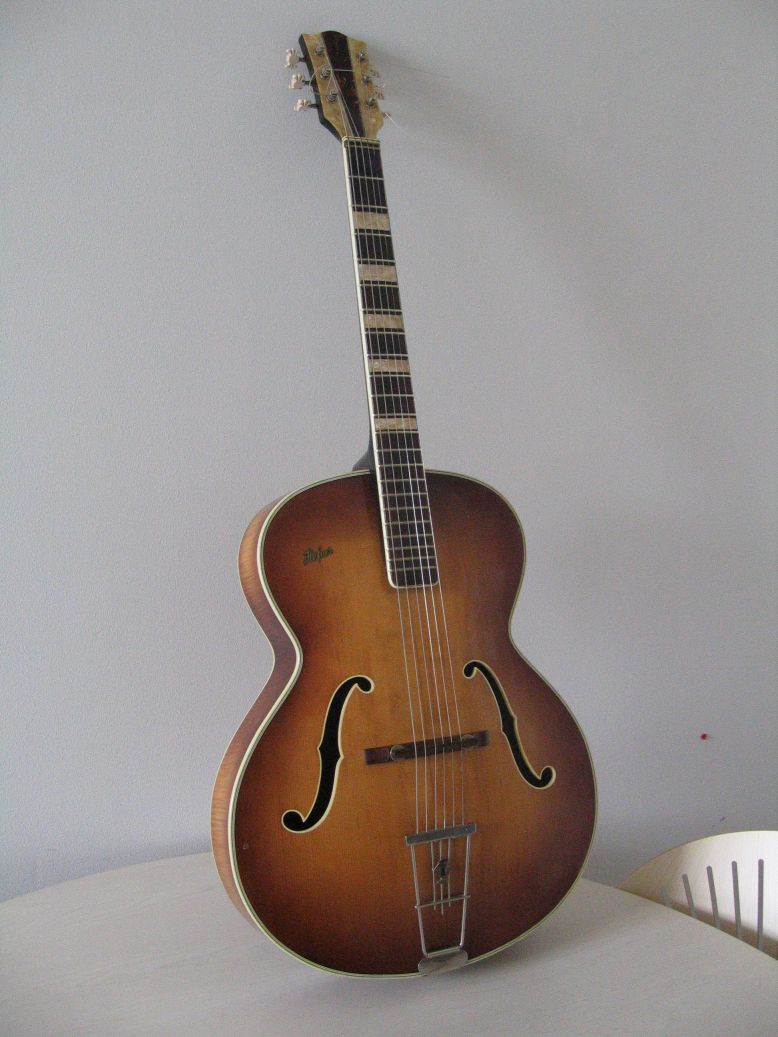guitar: (210, 23, 603, 972)
